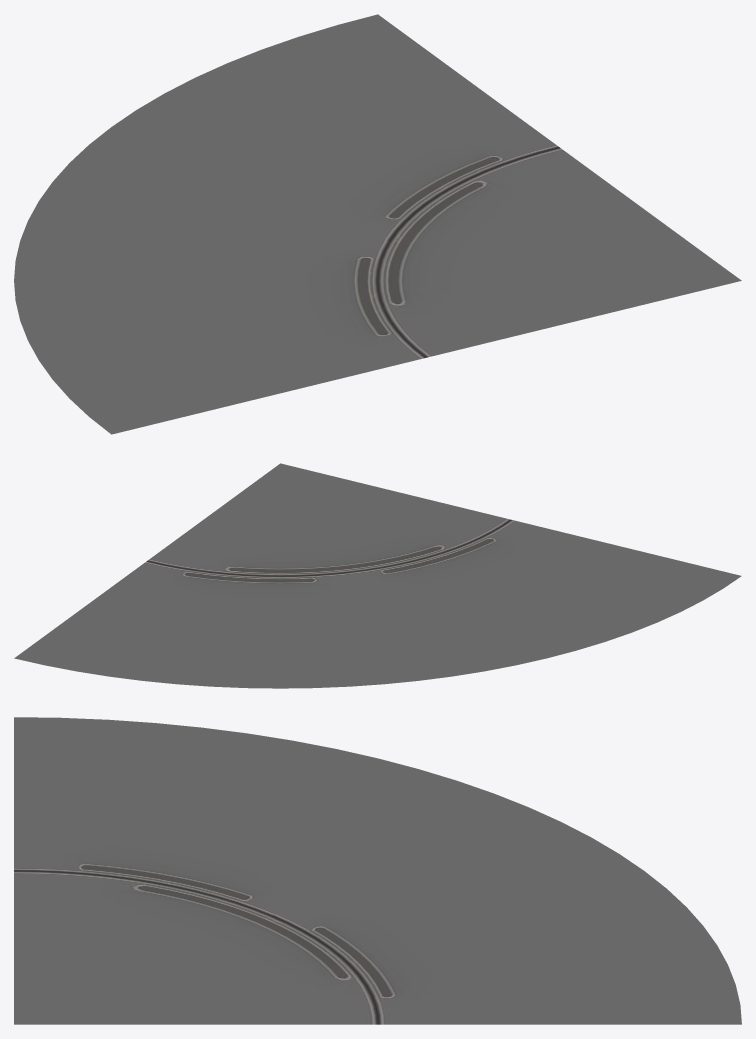
The model's file is platform_squares_curve.gltf.
3 views of the same model, one above another, from view 1: azimuth 30°, elevation 25°; view 2: azimuth 150°, elevation 25°; view 3: azimuth 270°, elevation 25° (orthographic). The views are drawn at different scales.
Visible parts, largest first — view 1: Platform_Squares_Curve; view 2: Platform_Squares_Curve; view 3: Platform_Squares_Curve.
Part boxes in pixels (<box>): Platform_Squares_Curve: <box>14,14,741,434</box>; Platform_Squares_Curve: <box>14,463,741,688</box>; Platform_Squares_Curve: <box>14,717,741,1024</box>.
Bounding box in the file's own units: 4 × 0 × 4.
1 material, 1 textured.
